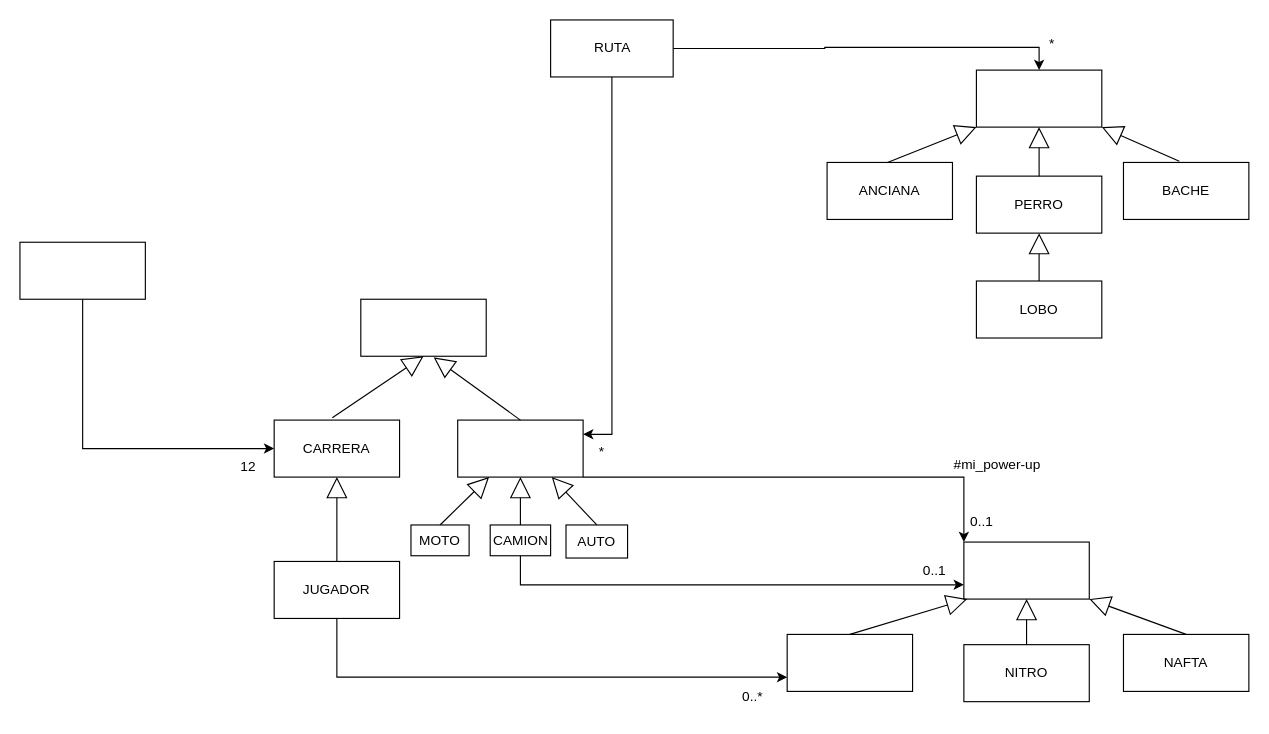
Some shapes in this 1269 by 734 pixel diagram are drawn without their labels. Each missing label, with the centre of its shape:
"JUEGO" belongs at [82,270].
"MISIL" belongs at [849,662].
"OBSTACULO (abstracta)" belongs at [1038,98].
"POWER-UP (abstracta)" belongs at [1026,570].
"TRANSITO" belongs at [520,448].
"VEHICULO (abstracta" belongs at [423,327].
